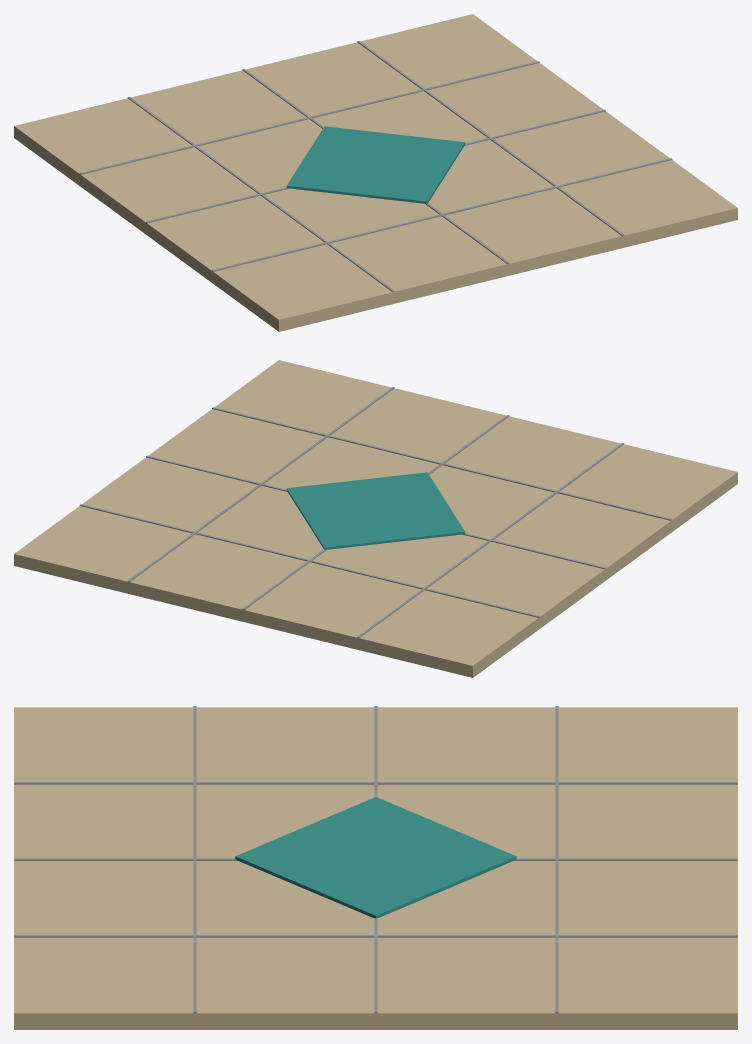
Rendered from plaza_tile.glb.
3 renders of one model, top to bottom at view 1: azimuth 30°, elevation 25°; view 2: azimuth 150°, elevation 25°; view 3: azimuth 270°, elevation 25°, orthographic. The views are drawn at different scales.
Parts seen in each view (by area): view 1: tile, inlay, paver_joint.005, paver_joint.001, paver_joint, paver_joint.004, paver_joint.003, paver_joint.002; view 2: tile, inlay, paver_joint.001, paver_joint.005, paver_joint, paver_joint.004, paver_joint.003, paver_joint.002; view 3: tile, inlay, paver_joint, paver_joint.004, paver_joint.002, paver_joint.001, paver_joint.005, paver_joint.003.
Boxes of the visible parts, x1=… form: tile: x1=14, y1=14, x2=737, y2=331; inlay: x1=286, y1=126, x2=465, y2=203; paver_joint.005: x1=79, y1=61, x2=539, y2=174; paver_joint.001: x1=212, y1=158, x2=672, y2=271; paver_joint: x1=127, y1=97, x2=394, y2=291; paver_joint.004: x1=357, y1=41, x2=624, y2=236; paver_joint.003: x1=146, y1=109, x2=605, y2=223; paver_joint.002: x1=242, y1=69, x2=509, y2=263; tile: x1=14, y1=360, x2=737, y2=677; inlay: x1=286, y1=472, x2=465, y2=549; paver_joint.001: x1=212, y1=407, x2=672, y2=520; paver_joint.005: x1=79, y1=504, x2=539, y2=617; paver_joint: x1=357, y1=443, x2=624, y2=637; paver_joint.004: x1=127, y1=387, x2=394, y2=582; paver_joint.003: x1=146, y1=455, x2=605, y2=569; paver_joint.002: x1=242, y1=415, x2=509, y2=609; tile: x1=14, y1=707, x2=737, y2=1029; inlay: x1=235, y1=797, x2=516, y2=918; paver_joint: x1=14, y1=782, x2=737, y2=784; paver_joint.004: x1=14, y1=935, x2=737, y2=937; paver_joint.002: x1=14, y1=858, x2=737, y2=860; paver_joint.001: x1=193, y1=706, x2=196, y2=1013; paver_joint.005: x1=555, y1=706, x2=558, y2=1013; paver_joint.003: x1=374, y1=706, x2=377, y2=1013.
Bounding box in the file's own units: 4 × 0.125 × 4.
